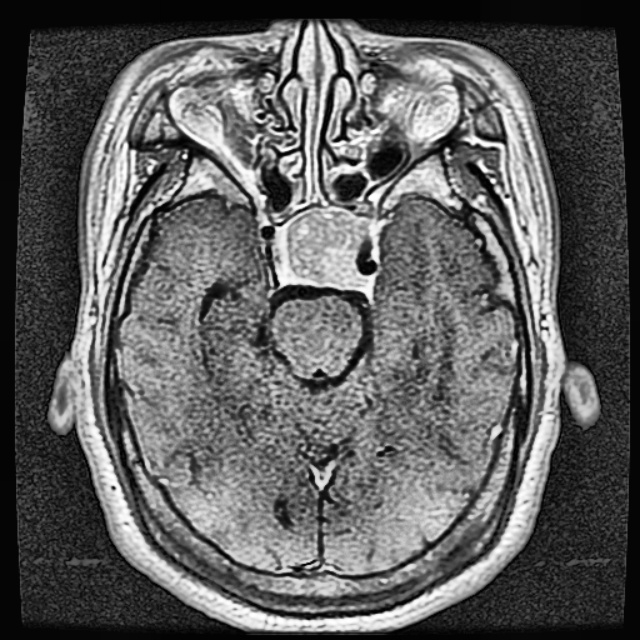Pituitary: (277, 209, 364, 289)
